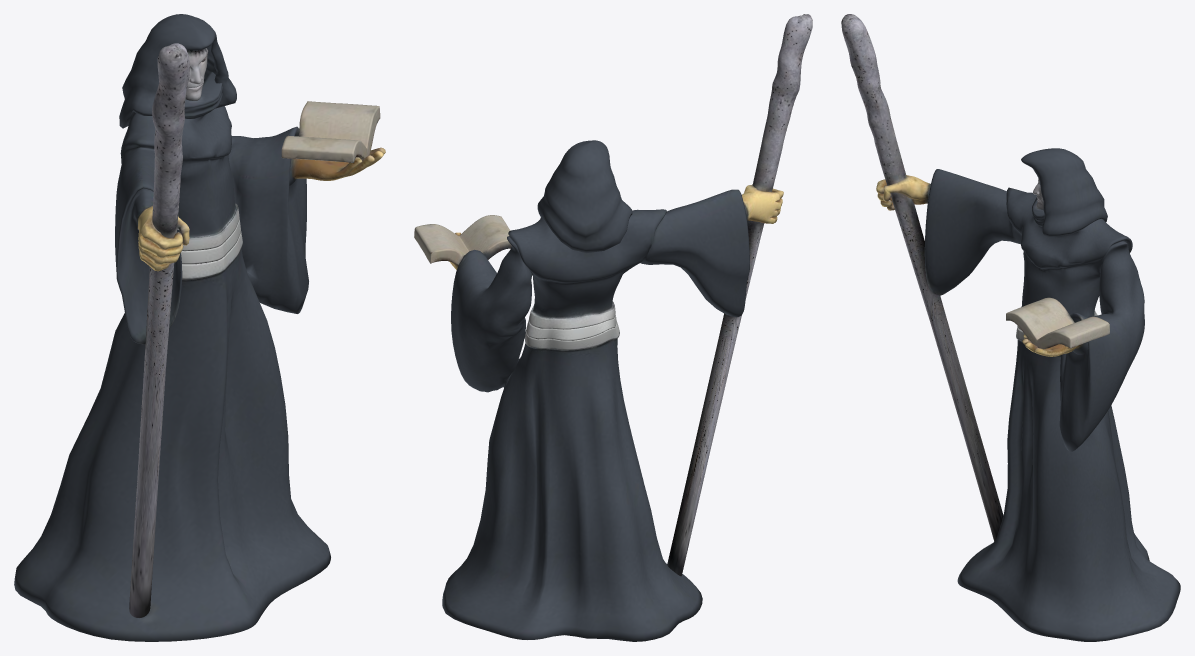
Rendered from MZ4250 - Manshoon - Human Male Wizard.glb.
3 renders of one model, left to right at view 1: azimuth 30°, elevation 25°; view 2: azimuth 150°, elevation 25°; view 3: azimuth 270°, elevation 25°, orthographic. The views are drawn at different scales.
Visible parts, largest first — view 1: default; view 2: default; view 3: default.
Boxes of the visible parts, x1,y1,x2,y2 form: default: (14,14,385,641); default: (414,14,812,641); default: (841,14,1180,641).
Bounding box in the file's own units: 0.7328 × 1.31 × 0.7762.
1 material, 1 textured.
